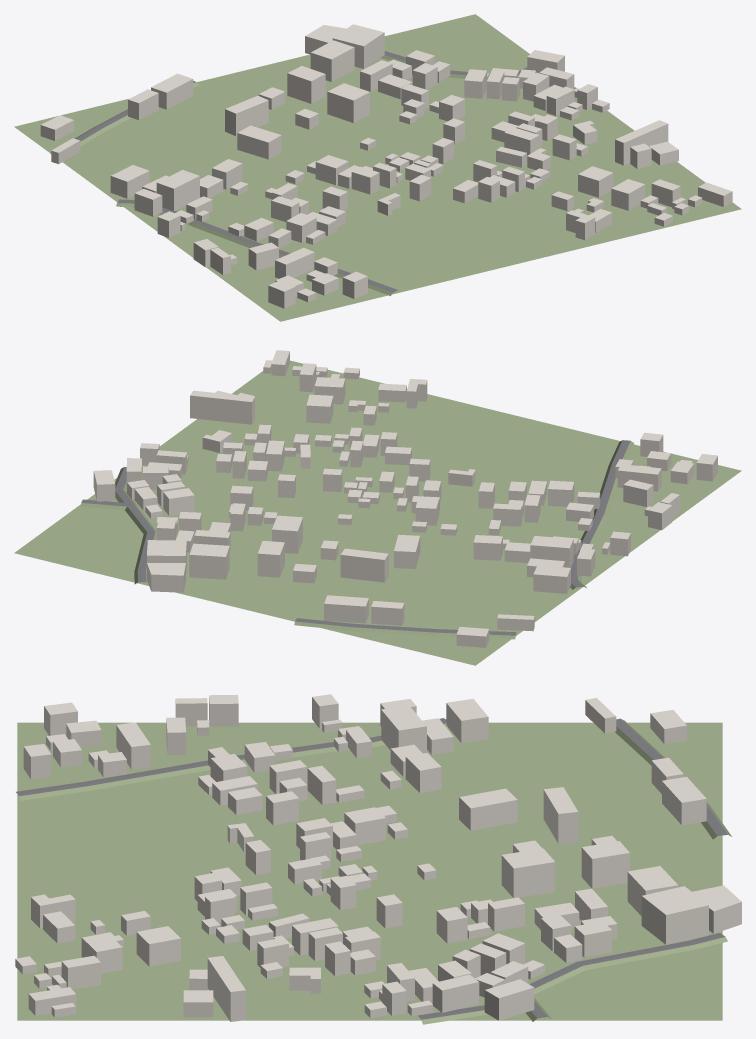
Rendered from dhamrai_chunk_x1_z-2.glb.
3 renders of one model, top to bottom at view 1: azimuth 30°, elevation 25°; view 2: azimuth 150°, elevation 25°; view 3: azimuth 270°, elevation 25°, orthographic. The views are drawn at different scales.
Visible parts, largest first — view 1: terrain, buildings, roads, embankments; view 2: terrain, buildings, roads, embankments; view 3: terrain, buildings, roads, embankments.
Part boxes in pixels (x1,y1,x2,y2): terrain: [14, 14, 741, 321]; buildings: [40, 24, 732, 308]; roads: [75, 51, 575, 292]; embankments: [50, 55, 466, 295]; terrain: [14, 360, 741, 665]; buildings: [93, 350, 717, 647]; roads: [81, 440, 630, 635]; embankments: [80, 440, 633, 639]; terrain: [17, 722, 722, 1020]; buildings: [15, 694, 741, 1021]; roads: [16, 718, 727, 1019]; embankments: [19, 719, 731, 1024].
Bounding box in the file's own units: 266 × 13.23 × 264.
